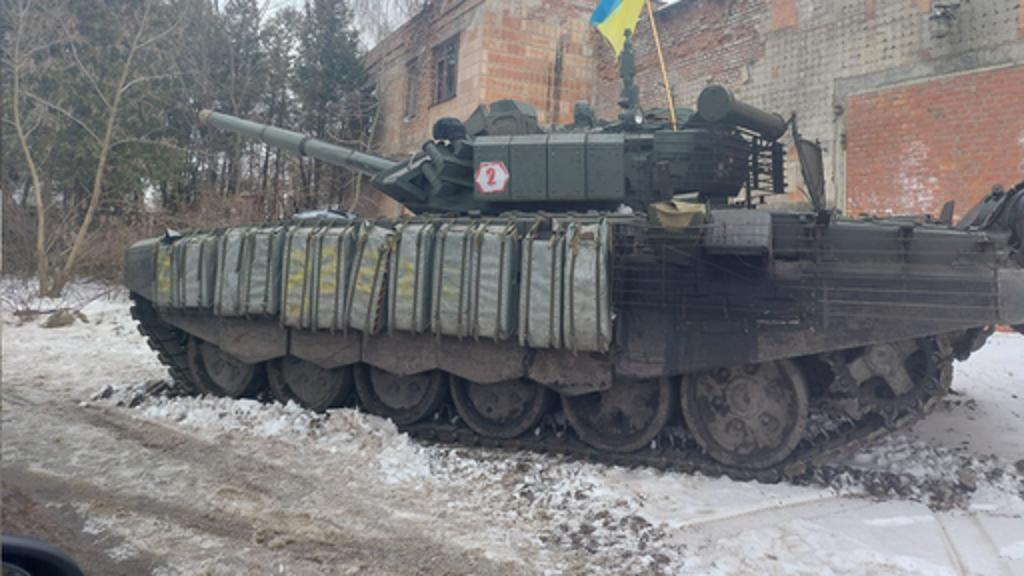TANK: (112, 78, 1012, 480)
